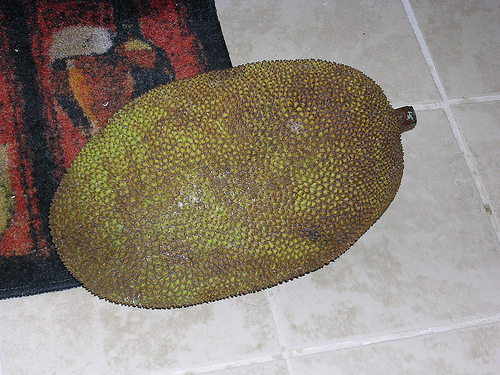jackfruit: (48, 58, 418, 310)
